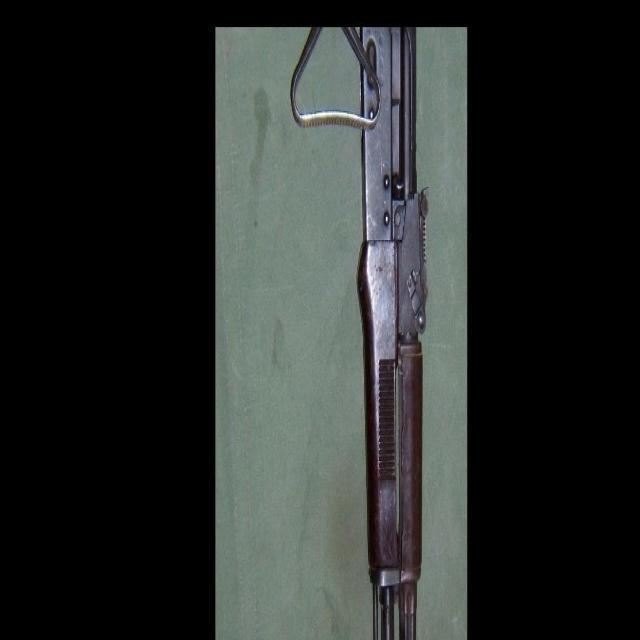weapon: (290, 25, 430, 640)
